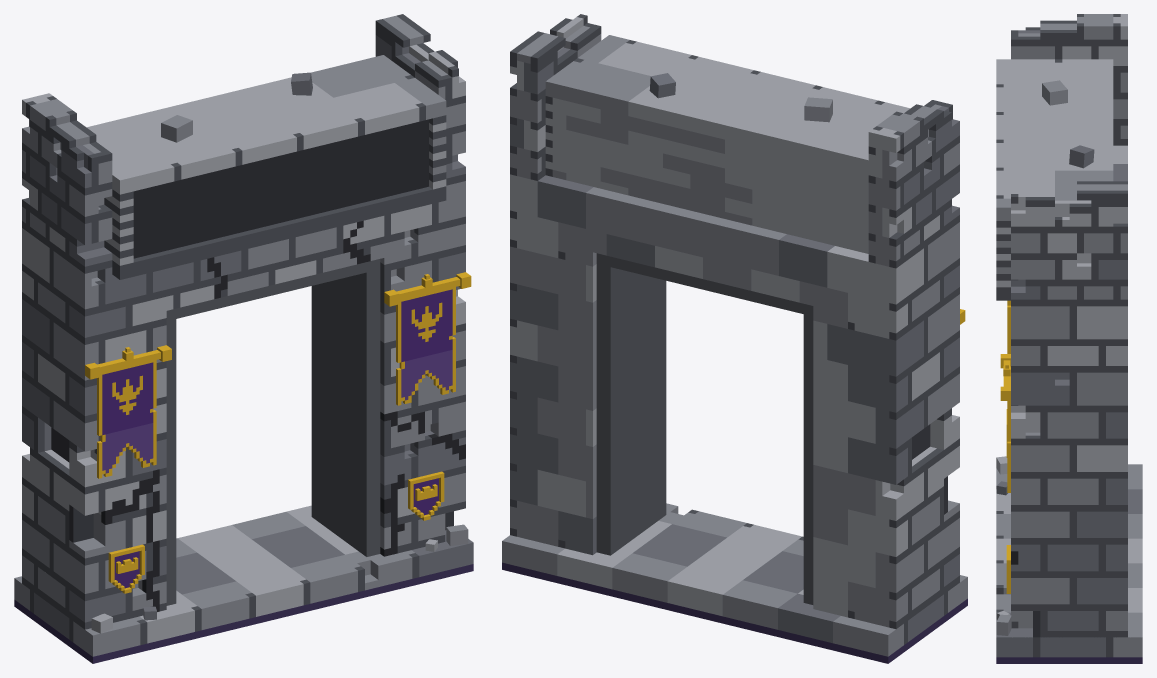
File: Lobby_PortalArch_ShatteredKingdom.glb
The picture shows the model from 3 angles, left to right: view 1: azimuth 30°, elevation 25°; view 2: azimuth 150°, elevation 25°; view 3: azimuth 270°, elevation 25°; orthographic projection. The views are drawn at different scales.
Parts seen in each view (by area): view 1: ShatteredKingdom_Stone_Mid, ShatteredKingdom_Stone_Light, ShatteredKingdom_Stone_Mortar, ShatteredKingdom_Stone_Reveal, ShatteredKingdom_Stone_Dark, ShatteredKingdom_Sign_Board, ShatteredKingdom_Gold, ShatteredKingdom_Banner_Purple, ShatteredKingdom_Stone_Crack, ShatteredKingdom_Stone_ShadowPurple, ShatteredKingdom_Banner_Purple_Faded, ShatteredKingdom_Stone_Hole; view 2: ShatteredKingdom_Stone_Light, ShatteredKingdom_Stone_Mid, ShatteredKingdom_Stone_Dark, ShatteredKingdom_Stone_Reveal, ShatteredKingdom_Stone_Mortar, ShatteredKingdom_Stone_ShadowPurple; view 3: ShatteredKingdom_Stone_Light, ShatteredKingdom_Stone_Mid, ShatteredKingdom_Stone_Mortar, ShatteredKingdom_Stone_Dark, ShatteredKingdom_Gold, ShatteredKingdom_Stone_ShadowPurple.
Part boxes in pixels (x1=…): ShatteredKingdom_Stone_Mid: x1=14, y1=16, x2=468, y2=656; ShatteredKingdom_Stone_Light: x1=22, y1=44, x2=465, y2=643; ShatteredKingdom_Stone_Mortar: x1=22, y1=14, x2=465, y2=645; ShatteredKingdom_Stone_Reveal: x1=166, y1=259, x2=380, y2=605; ShatteredKingdom_Stone_Dark: x1=22, y1=35, x2=473, y2=639; ShatteredKingdom_Sign_Board: x1=133, y1=119, x2=428, y2=258; ShatteredKingdom_Gold: x1=85, y1=272, x2=471, y2=593; ShatteredKingdom_Banner_Purple: x1=102, y1=289, x2=452, y2=588; ShatteredKingdom_Stone_Crack: x1=101, y1=220, x2=465, y2=611; ShatteredKingdom_Stone_ShadowPurple: x1=14, y1=564, x2=473, y2=663; ShatteredKingdom_Banner_Purple_Faded: x1=102, y1=350, x2=452, y2=473; ShatteredKingdom_Stone_Hole: x1=51, y1=427, x2=453, y2=542; ShatteredKingdom_Stone_Light: x1=510, y1=17, x2=959, y2=617; ShatteredKingdom_Stone_Mid: x1=502, y1=26, x2=967, y2=656; ShatteredKingdom_Stone_Dark: x1=510, y1=47, x2=959, y2=643; ShatteredKingdom_Stone_Reveal: x1=596, y1=253, x2=813, y2=604; ShatteredKingdom_Stone_Mortar: x1=510, y1=14, x2=959, y2=644; ShatteredKingdom_Stone_ShadowPurple: x1=502, y1=562, x2=967, y2=663; ShatteredKingdom_Stone_Light: x1=996, y1=14, x2=1142, y2=619; ShatteredKingdom_Stone_Mid: x1=996, y1=14, x2=1142, y2=657; ShatteredKingdom_Stone_Mortar: x1=996, y1=14, x2=1127, y2=657; ShatteredKingdom_Stone_Dark: x1=996, y1=30, x2=1142, y2=657; ShatteredKingdom_Gold: x1=1000, y1=300, x2=1010, y2=593; ShatteredKingdom_Stone_ShadowPurple: x1=996, y1=657, x2=1142, y2=663.
Bounding box in the file's own units: 2.8 × 3.6 × 1.
